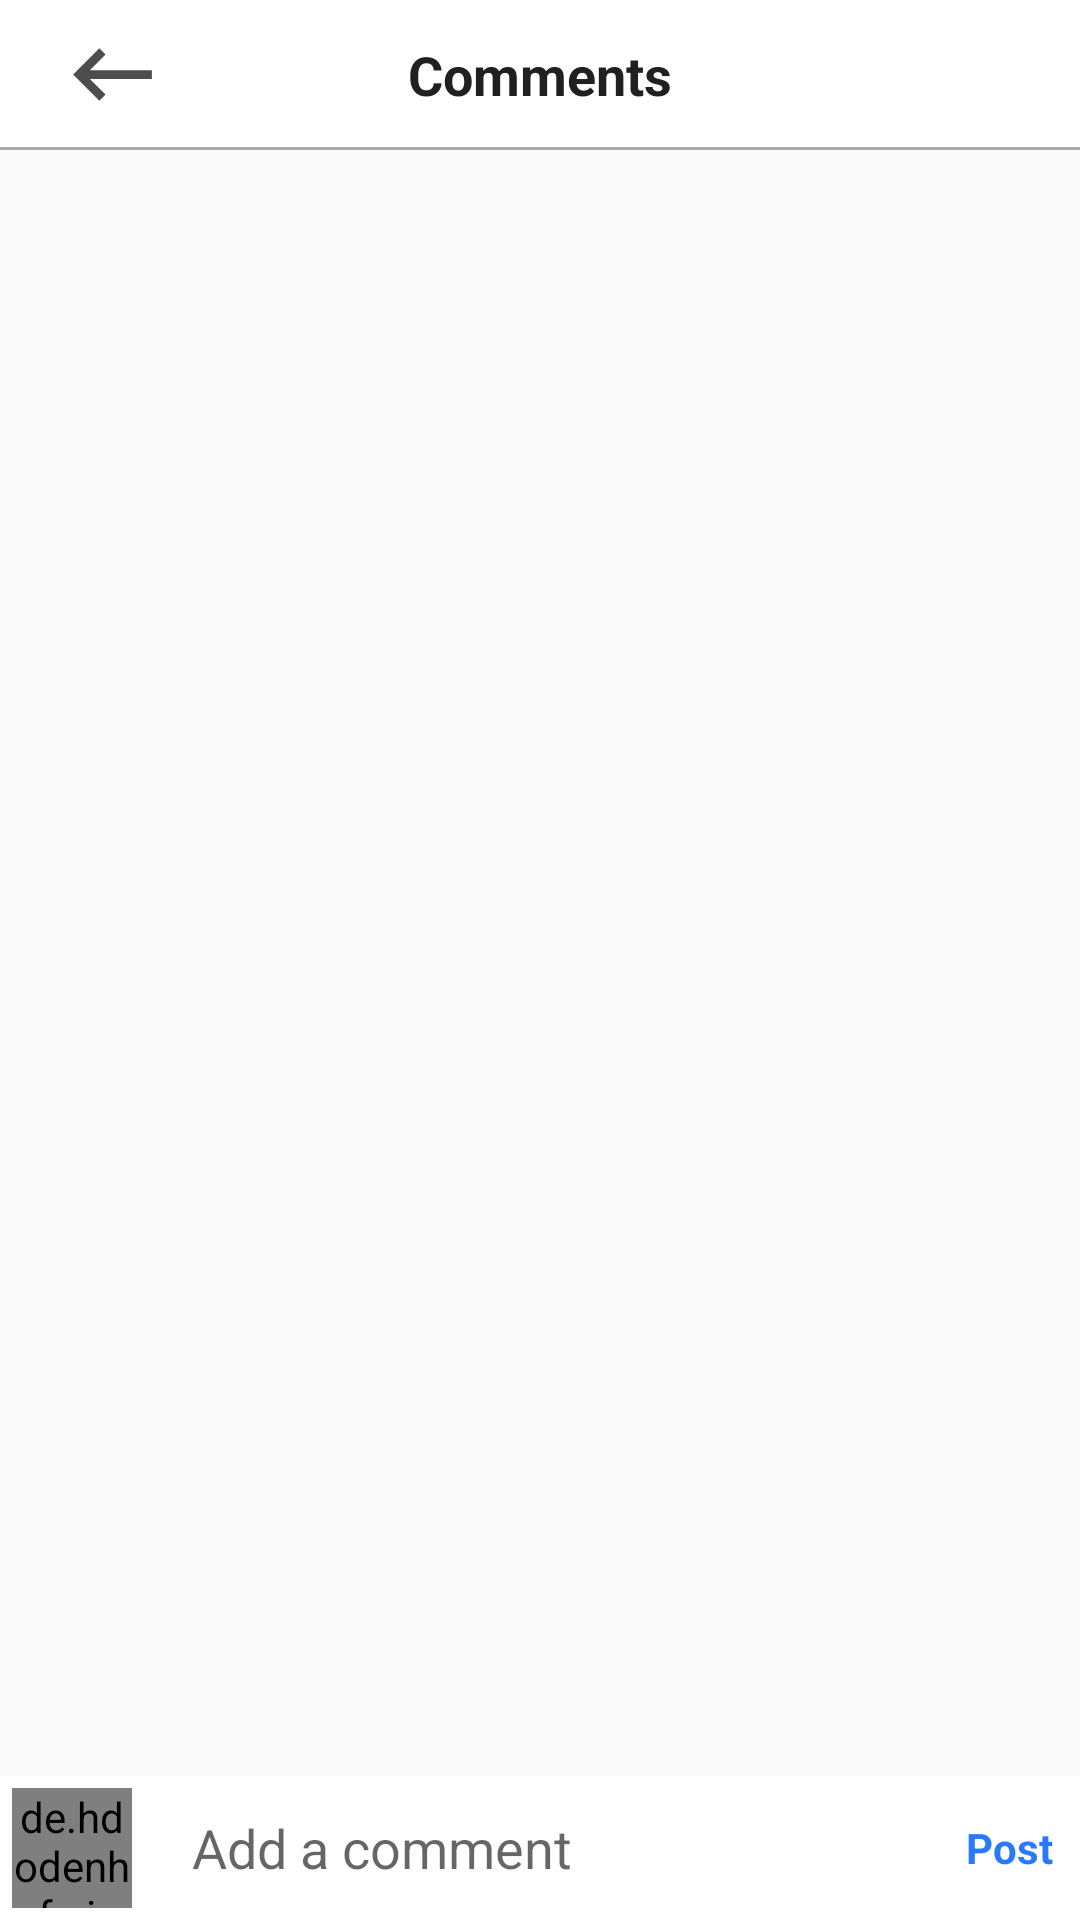

Icons on this 1080px×1920px Android screen, each with the point to tap as point (x, y):
back: point (112, 74)
